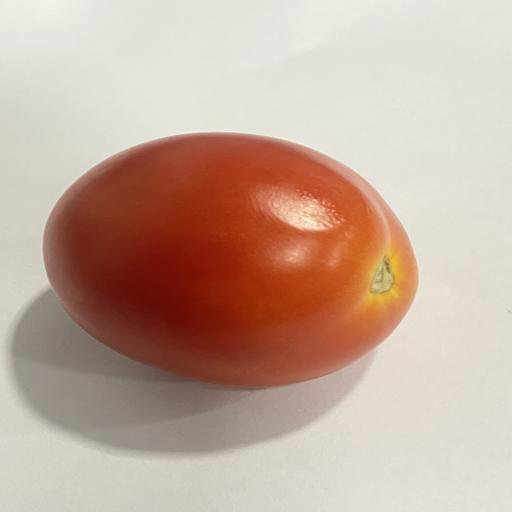ripe: (43, 133, 418, 387)
